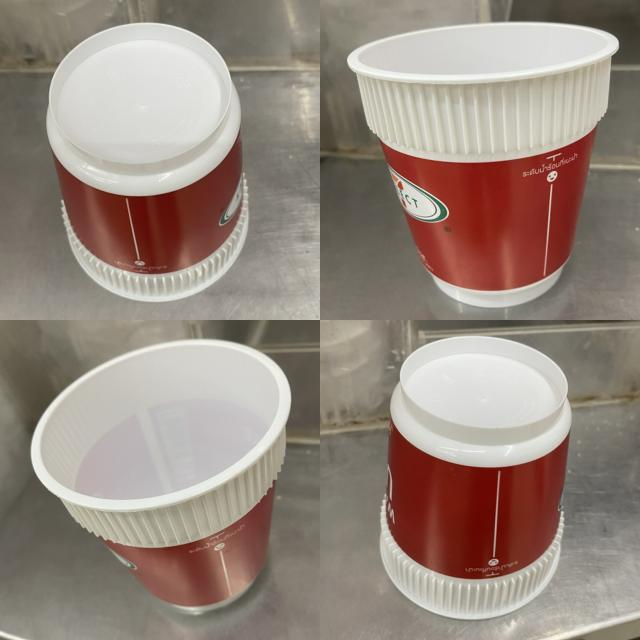Single-Use-Plastic: (348, 22, 619, 307), (31, 340, 291, 611), (46, 22, 249, 301), (380, 336, 571, 619)
